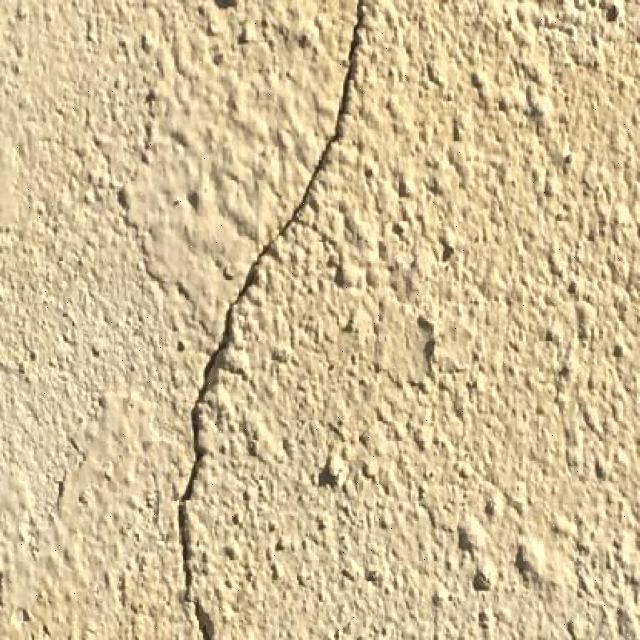corrosion: (223, 252, 271, 329), (209, 299, 244, 378), (560, 24, 612, 73)
crack: (174, 0, 370, 639), (239, 20, 365, 291), (181, 284, 258, 506), (327, 1, 374, 146), (176, 472, 216, 639), (183, 396, 211, 494), (176, 495, 196, 581)
